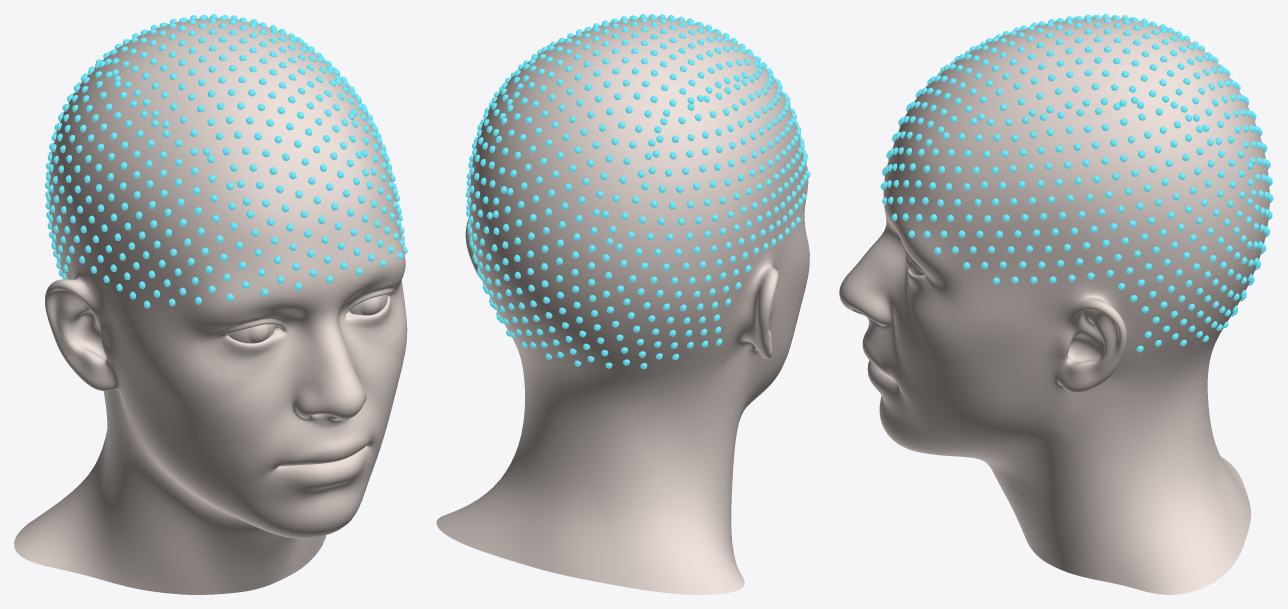
The model's file is zuhe1.glb.
3 renders of one model, left to right at view 1: azimuth 30°, elevation 25°; view 2: azimuth 150°, elevation 25°; view 3: azimuth 270°, elevation 25°, orthographic. The views are drawn at different scales.
Visible parts, largest first — view 1: M560DIANJI01_PRT, spotGroup; view 2: M560DIANJI01_PRT, spotGroup; view 3: M560DIANJI01_PRT, spotGroup.
Part boxes in pixels (box(x1,y1,x2,y2)): M560DIANJI01_PRT: box(14, 18, 407, 594); spotGroup: box(45, 14, 407, 308); M560DIANJI01_PRT: box(436, 17, 809, 594); spotGroup: box(465, 14, 810, 369); M560DIANJI01_PRT: box(839, 18, 1269, 594); spotGroup: box(880, 14, 1273, 352).
Bounding box in the file's own units: 183 × 288 × 224.
